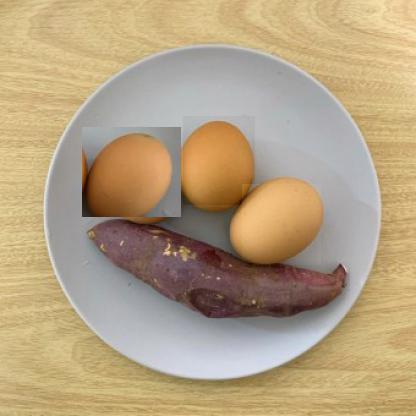egg: (82, 127, 182, 218), (183, 116, 256, 206), (242, 184, 322, 266)
